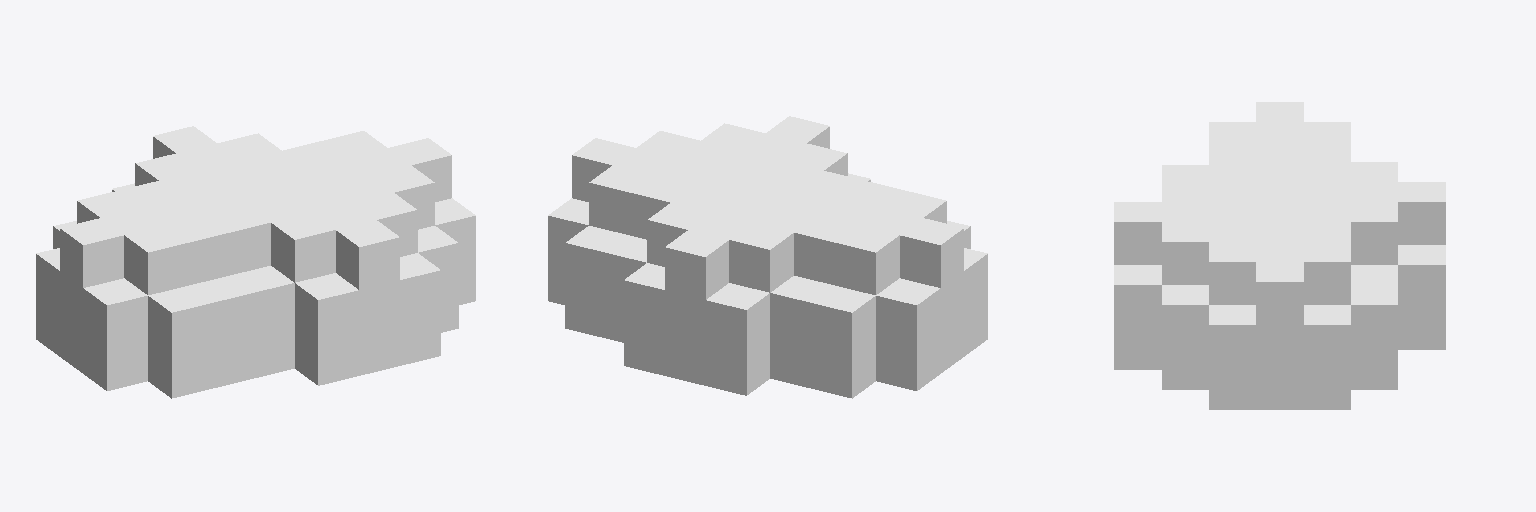
File: Stone1.obj
3 renders of one model, left to right at view 1: azimuth 30°, elevation 25°; view 2: azimuth 150°, elevation 25°; view 3: azimuth 270°, elevation 25°, orthographic.
Visible parts, largest first — view 1: Stone1; view 2: Stone1; view 3: Stone1.
Boxes of the visible parts, x1,y1,x2,y2 form: Stone1: [36, 126, 475, 398]; Stone1: [548, 116, 987, 398]; Stone1: [1114, 102, 1445, 409].
Bounding box in the file's own units: 0.9 × 0.3 × 0.7.